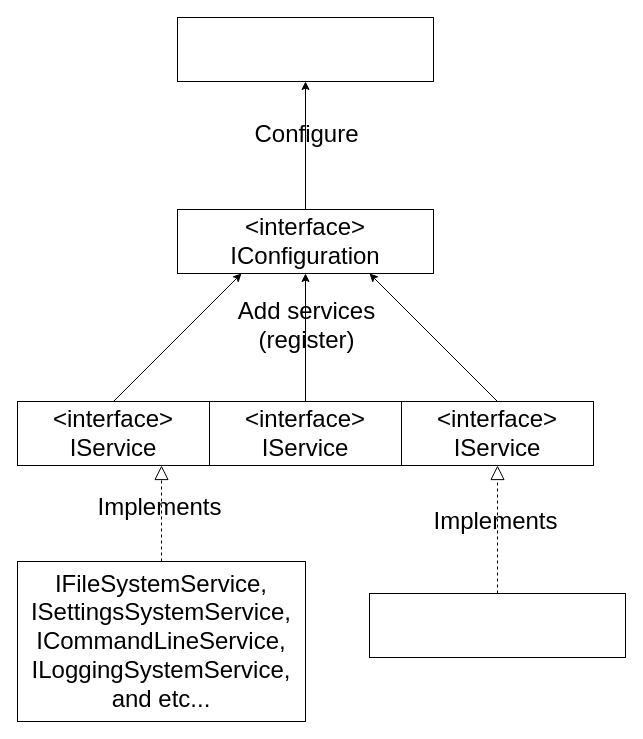
Image size: 643x739. Some labels were removed from this diagram. Here are the shapes that lost their labels. From the top down, the box of each, then its label:
(176, 16, 434, 82): <abstract class> HostRunner
(368, 592, 626, 658): <abstract class> AppWorker
